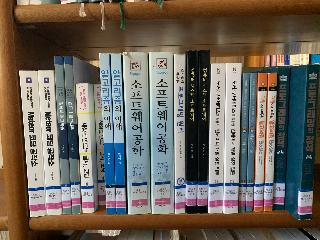book-spine: (123, 51, 151, 215), (19, 69, 47, 217), (149, 52, 174, 214), (38, 70, 62, 215), (298, 64, 319, 221), (223, 63, 242, 214), (63, 56, 81, 214), (99, 53, 116, 214), (208, 63, 226, 214), (271, 67, 290, 210), (54, 56, 71, 215), (111, 53, 126, 214), (76, 83, 94, 213), (197, 50, 210, 214), (245, 73, 258, 212), (254, 73, 267, 212), (186, 50, 197, 214), (264, 73, 277, 211), (238, 73, 250, 212), (175, 54, 185, 214), (94, 84, 106, 206)
